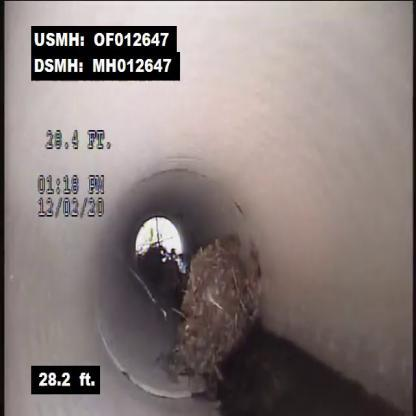Obstacle: (154, 218, 289, 383)
